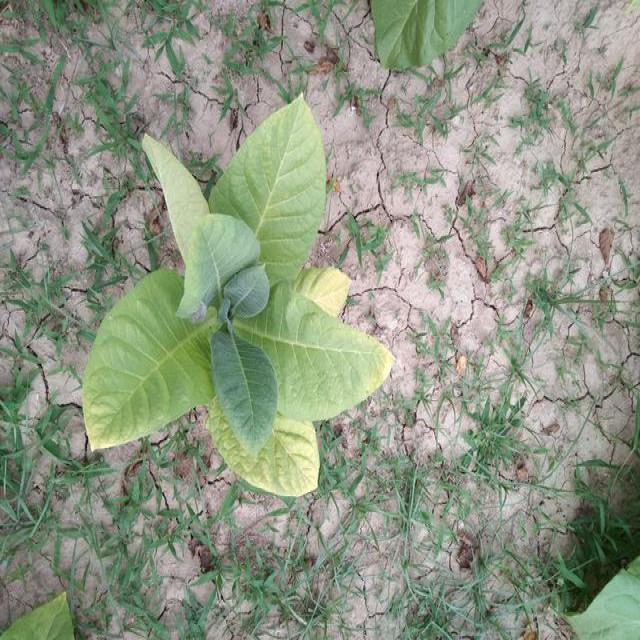crop: (75, 94, 392, 500)
